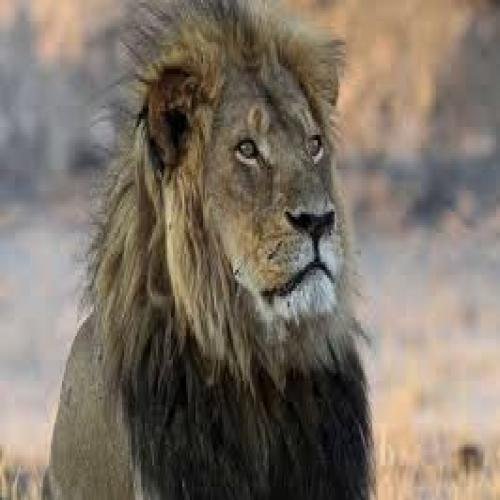lion-endangered: (41, 0, 376, 500)
